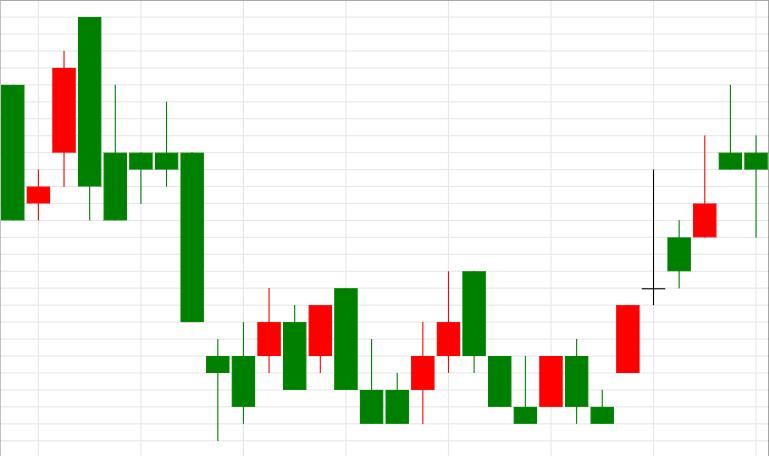bearish_engulfing_fall: (385, 271, 486, 425)
shooting_star_fall: (591, 136, 717, 423)
